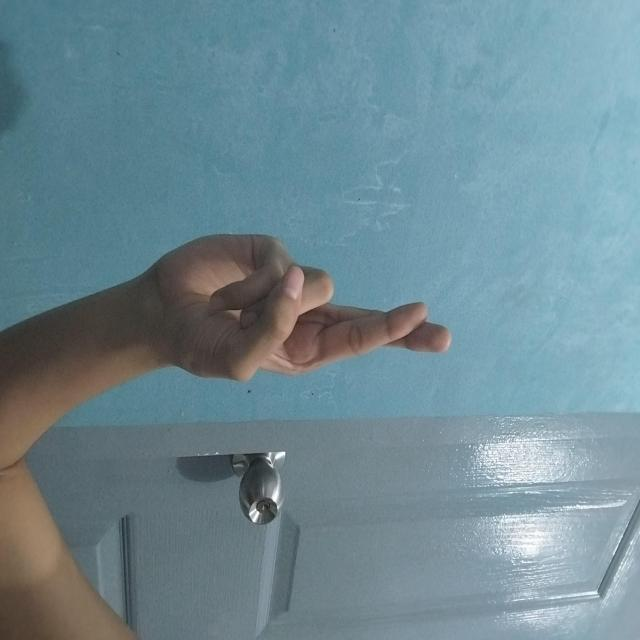R: (233, 190, 385, 485)
